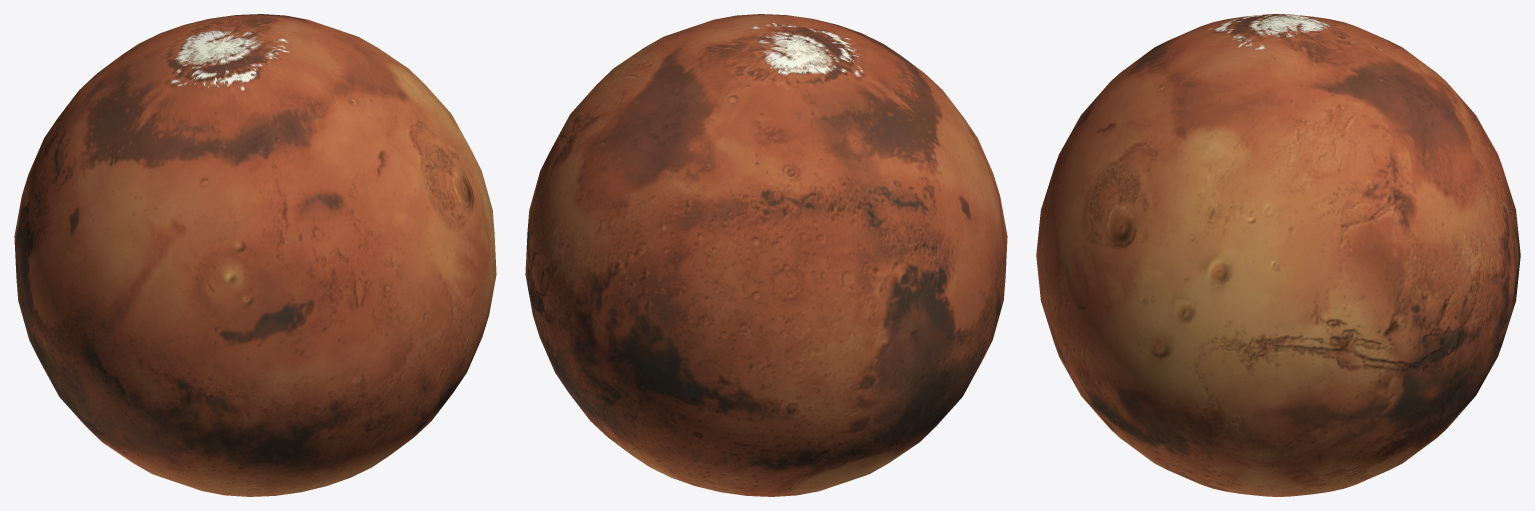
The model's file is mars.fbx.
3 renders of one model, left to right at view 1: azimuth 30°, elevation 25°; view 2: azimuth 150°, elevation 25°; view 3: azimuth 270°, elevation 25°, orthographic.
Parts seen in each view (by area): view 1: mars; view 2: mars; view 3: mars.
Boxes of the visible parts, x1,y1,x2,y2 form: mars: (14,14,496,496); mars: (525,14,1007,496); mars: (1036,14,1520,496).
Size of the model in its own units: 8.99 by 8.99 by 9.
1 material, 1 textured.
